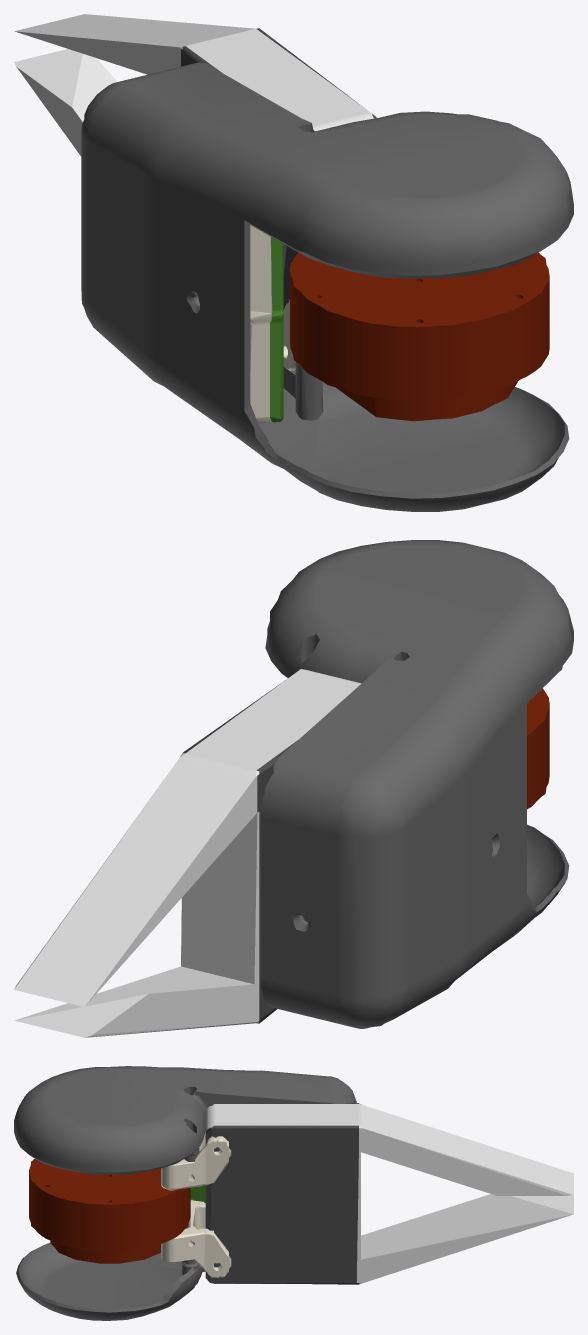
The model's file is left_wrist_roll.obj.
The picture shows the model from 3 angles, top to bottom: view 1: azimuth 30°, elevation 25°; view 2: azimuth 150°, elevation 25°; view 3: azimuth 270°, elevation 25°; orthographic projection. The views are drawn at different scales.
Parts seen in each view (by area): view 1: Part_5, Part_6, AK60_6, Sake_Gripper_Hand, GIMU_P04_02_IMU_Housing_Top_Thru_Hole, GIMU_P04_01_IMU_Housing_Base_Thru_Hole; view 2: Part_5, Sake_Gripper_Hand, Part_6, AK60_6; view 3: Sake_Gripper_Hand, Part_5, AK60_6, Part_6, N16_23_P07_01_Link_Hand_A, N16_23_P07_02_Link_Hand_B.
Boxes of the visible parts, x1,y1,x2,y2 form: Part_5: (81, 62, 573, 318); Part_6: (81, 211, 569, 511); AK60_6: (290, 252, 549, 421); Sake_Gripper_Hand: (14, 14, 376, 309); GIMU_P04_02_IMU_Housing_Top_Thru_Hole: (250, 225, 272, 422); GIMU_P04_01_IMU_Housing_Base_Thru_Hole: (270, 237, 283, 422); Part_5: (261, 540, 573, 925); Sake_Gripper_Hand: (14, 669, 361, 1037); Part_6: (261, 802, 569, 1028); AK60_6: (527, 688, 549, 809); Sake_Gripper_Hand: (205, 1103, 573, 1284); Part_5: (14, 1066, 356, 1174); AK60_6: (29, 1159, 190, 1263); Part_6: (16, 1243, 205, 1320); N16_23_P07_01_Link_Hand_A: (161, 1200, 231, 1277); N16_23_P07_02_Link_Hand_B: (161, 1131, 231, 1190).
Size of the model in its own units: 0.099 by 0.1 by 0.263.
